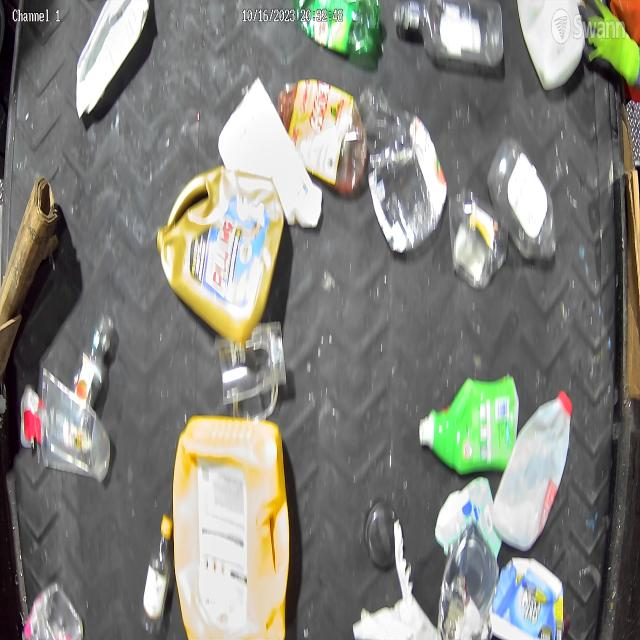milk_jug: (492, 388, 573, 550), (518, 0, 585, 91), (435, 475, 503, 557)
non_white_jug: (172, 414, 290, 640), (156, 164, 284, 344), (418, 373, 520, 475)
plastic_bottle: (392, 0, 507, 67), (140, 513, 174, 636), (70, 310, 114, 403)
